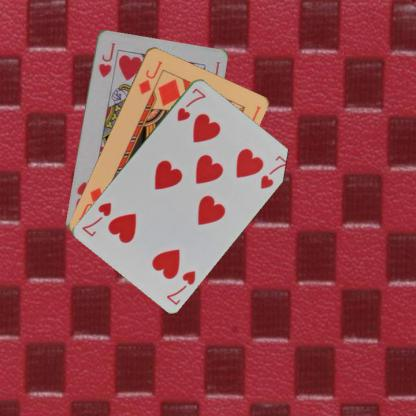7h: (164, 268, 197, 306), (174, 85, 207, 122)
Jd: (136, 58, 163, 95)
Jh: (96, 39, 117, 79)
